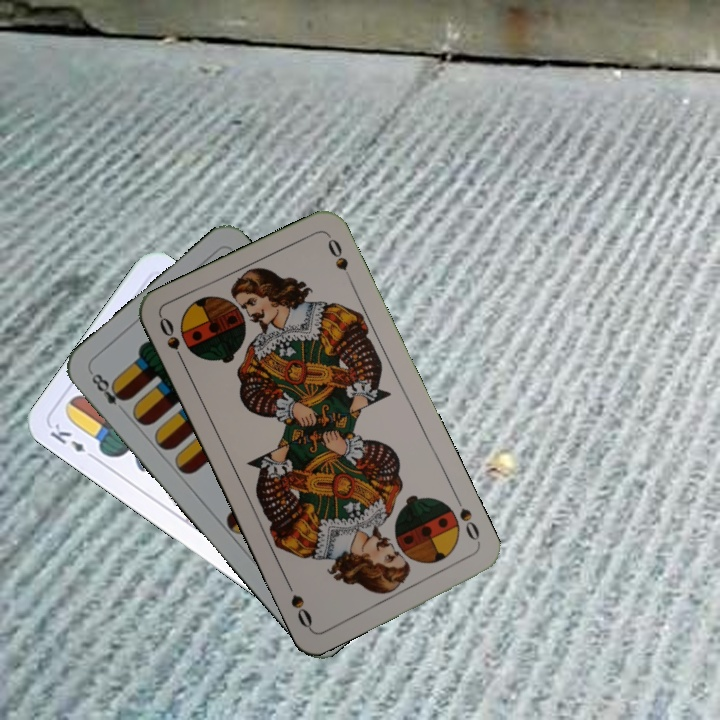E8: (86, 368, 131, 409)
EK: (45, 419, 99, 463)
SO: (155, 313, 189, 369), (455, 504, 484, 549)
